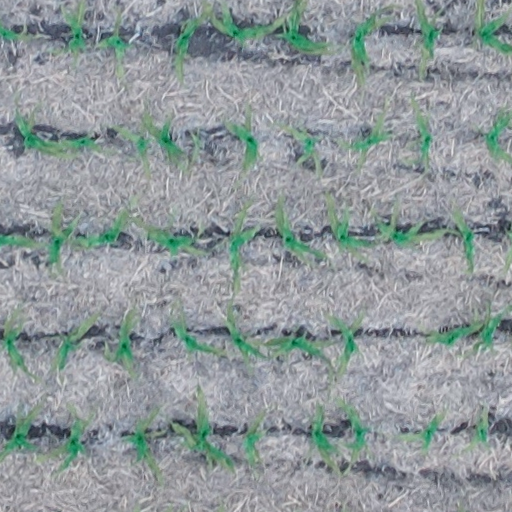planta: (171, 385, 235, 472), (13, 98, 81, 160), (36, 404, 97, 472), (371, 198, 452, 246), (138, 108, 194, 174), (70, 198, 136, 250), (225, 198, 260, 295), (275, 195, 326, 261), (121, 406, 163, 483), (337, 110, 390, 169), (133, 216, 207, 258), (172, 4, 211, 82), (211, 2, 286, 42), (348, 13, 388, 86), (260, 333, 333, 371), (326, 195, 375, 251), (54, 311, 99, 371), (169, 308, 225, 356), (101, 307, 138, 378), (326, 312, 364, 376), (225, 306, 264, 368), (222, 108, 260, 170), (393, 411, 445, 455), (280, 124, 322, 178), (46, 201, 79, 268), (96, 14, 132, 75), (36, 128, 113, 156), (112, 124, 152, 175), (337, 399, 368, 461), (415, 318, 483, 346), (311, 404, 339, 470), (450, 207, 476, 274), (410, 96, 432, 168), (459, 405, 490, 456), (240, 411, 267, 465)
